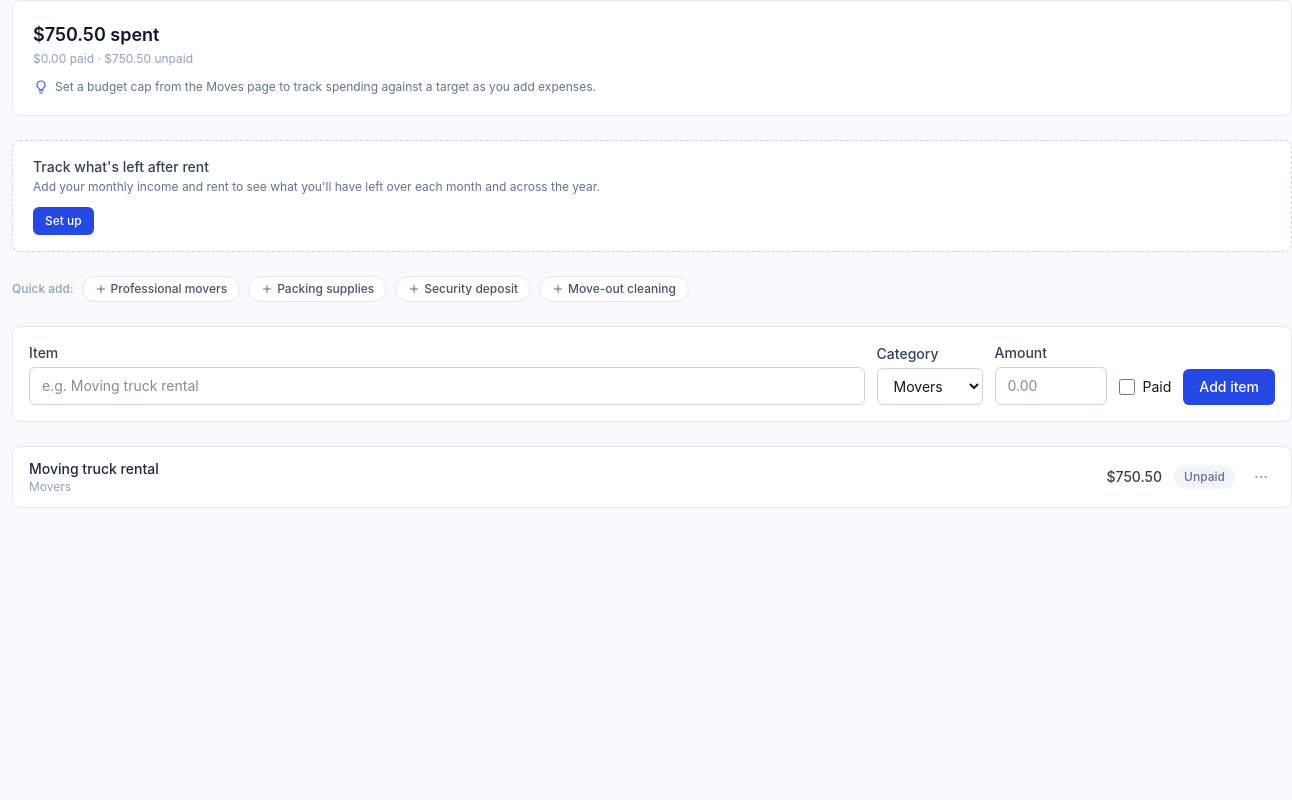
Test: BudgetPage › adopts the server summary after adding an item
The width and height of the screenshot is (1292, 800).
Expected: the text "Moving truck rental" is shown, x1=29 y1=460 x2=159 y2=477
Type "Packing supplies" into the field with placeholder "e.g. Moving truck rental".
click(447, 386); type("Packing supplies")  # box x1=29 y1=367 x2=865 y2=405
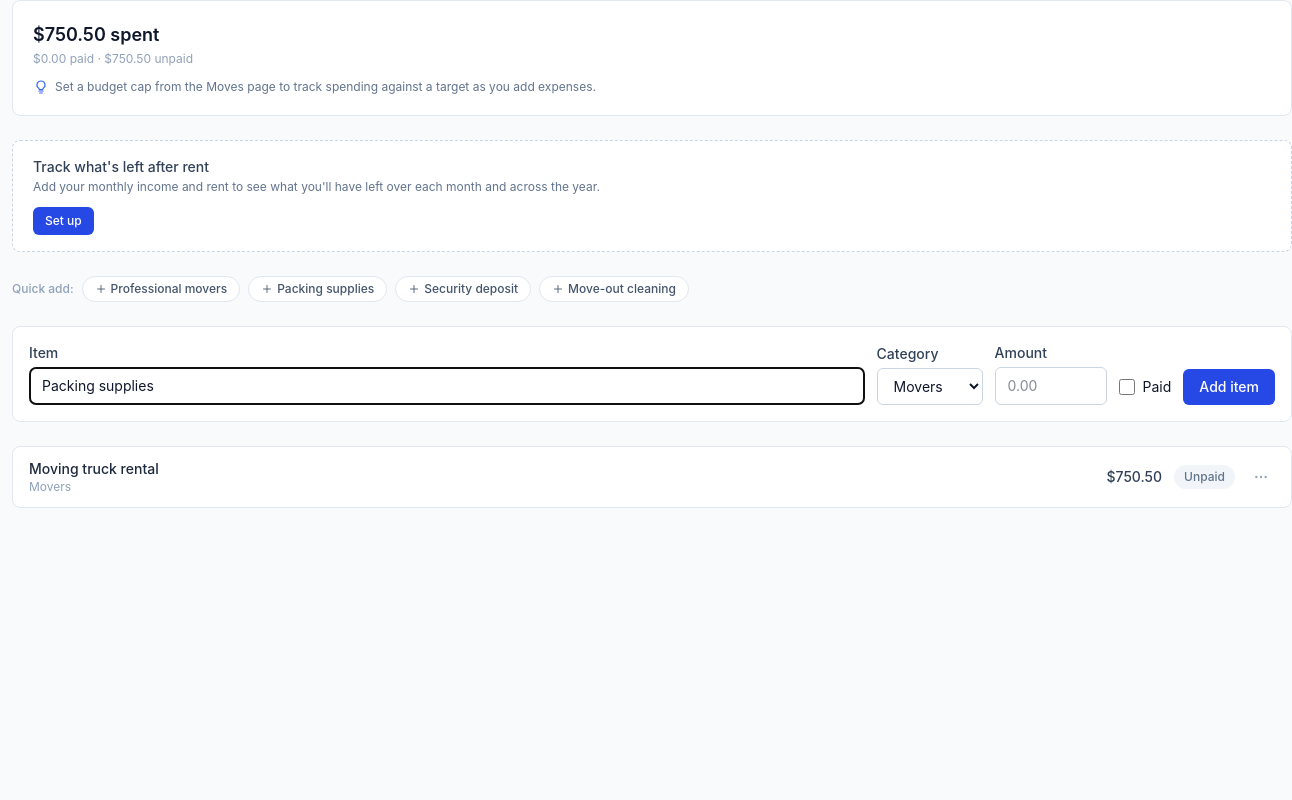
Type "120" into the number field with placeholder "0.00".
click(1051, 386); type("120")  # box x1=995 y1=367 x2=1107 y2=405
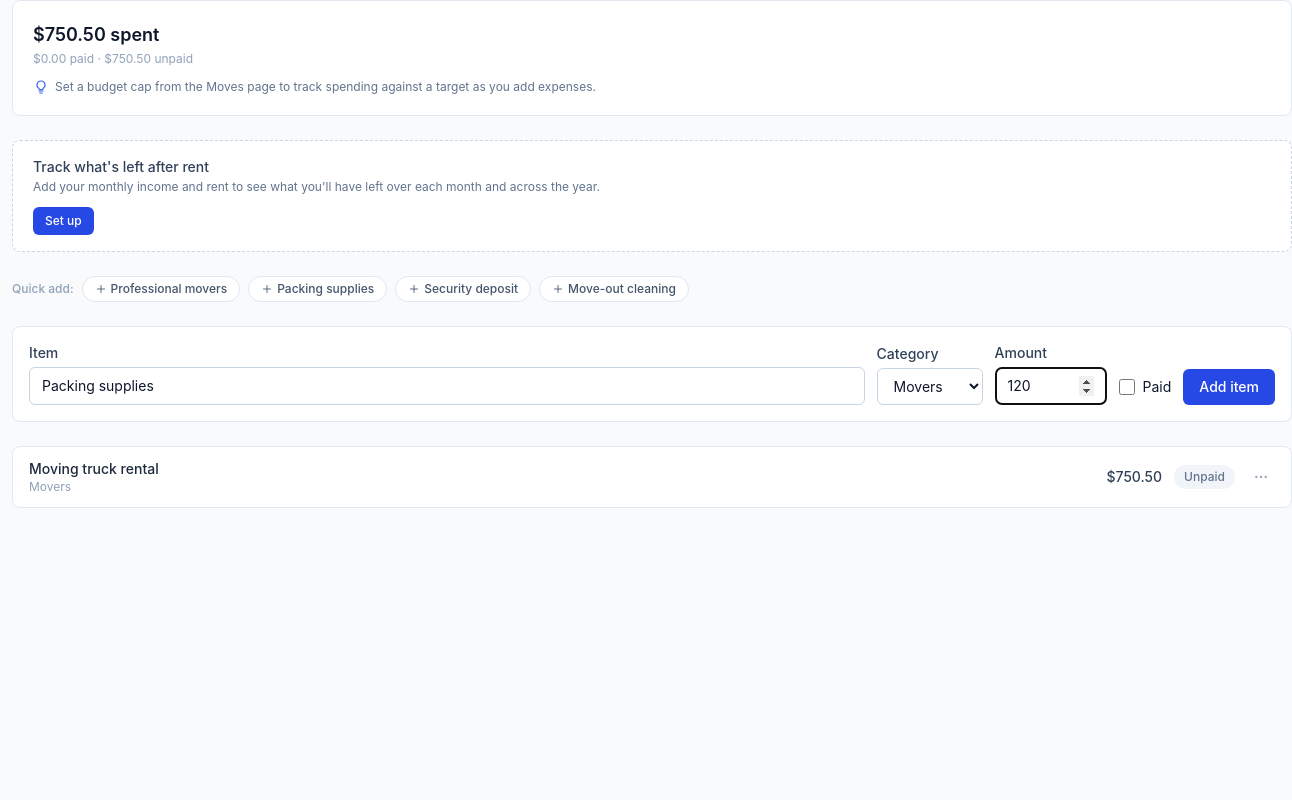
Click the button "Add item".
click(1229, 387)  # box x1=1183 y1=369 x2=1275 y2=405
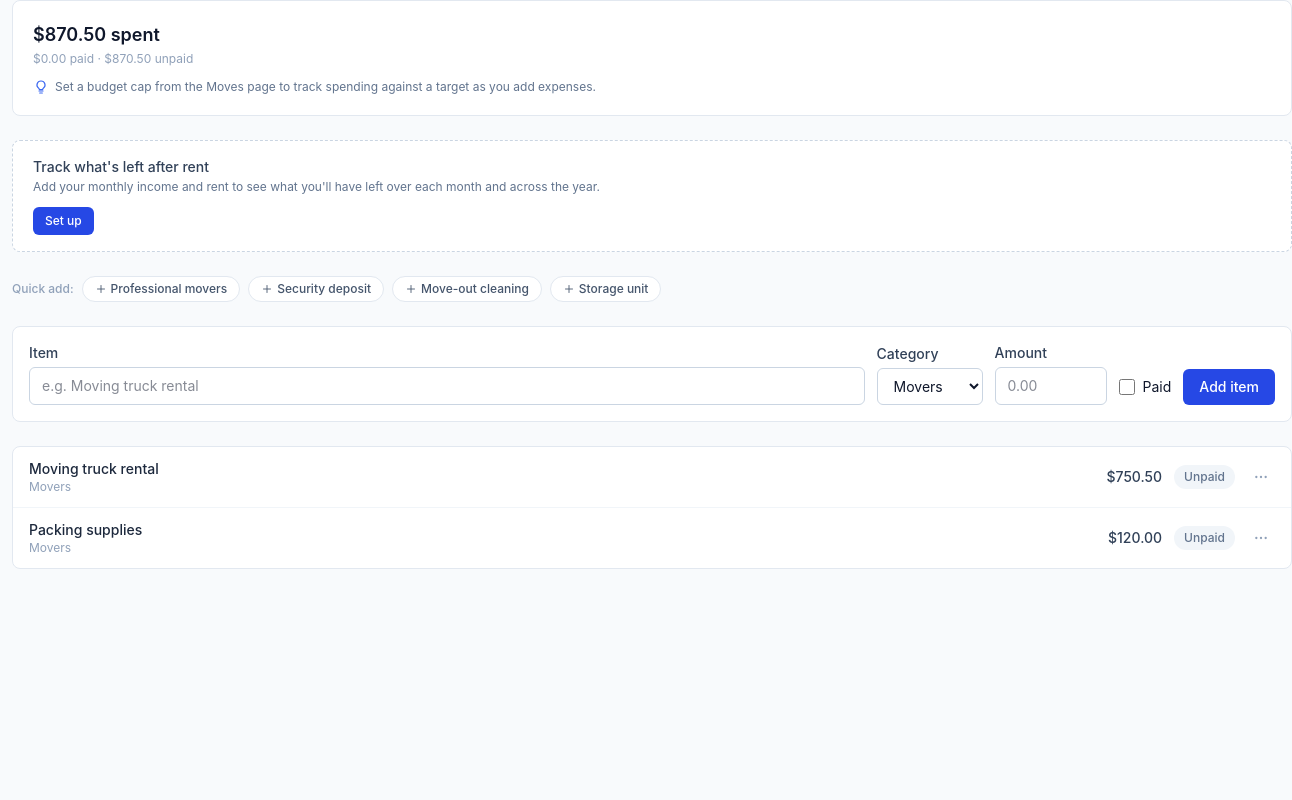
Expected: the text "Packing supplies" is shown, x1=29 y1=521 x2=142 y2=538
Expected: the text "$870.50 spent" is shown, x1=33 y1=24 x2=160 y2=45
